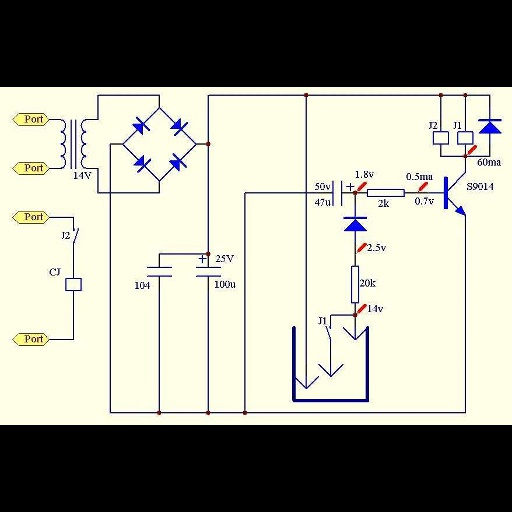capacitor: (143, 264, 178, 279)
firstdiode: (476, 115, 504, 139), (340, 214, 370, 235)
firstpolarcapacitor: (330, 178, 355, 209), (196, 255, 223, 279)
firstresistance: (348, 262, 360, 307), (365, 186, 407, 198)
npn: (441, 171, 468, 220)
rectifierbridge: (122, 107, 197, 182)
transformer: (58, 120, 93, 170)
